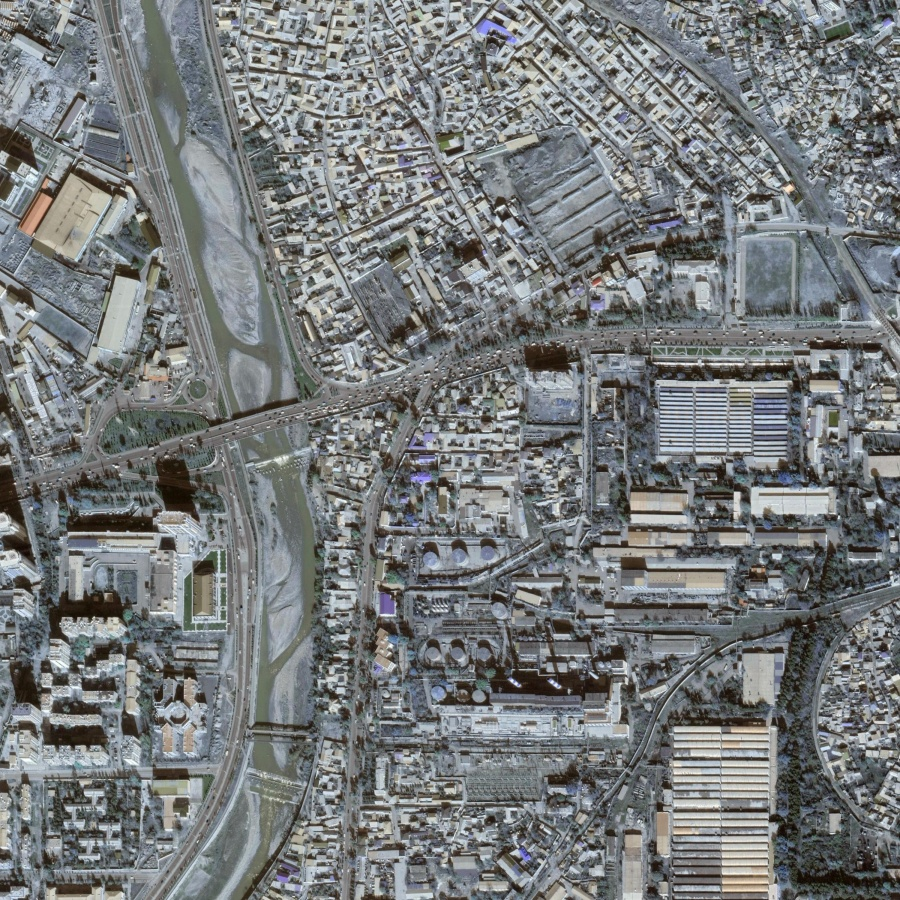PowerPlant: (413, 592, 634, 803)
